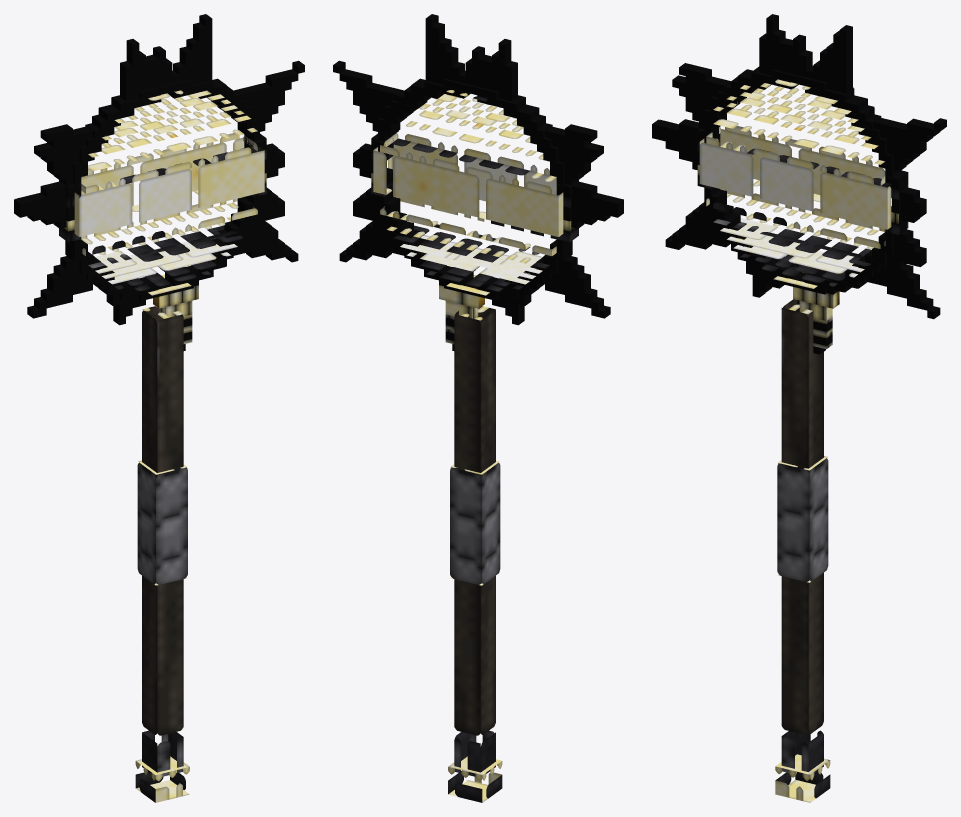
File: totality.obj
The picture shows the model from 3 angles, left to right: view 1: azimuth 30°, elevation 25°; view 2: azimuth 150°, elevation 25°; view 3: azimuth 330°, elevation 25°; orthographic projection.
Visible parts, largest first — view 1: lit, fire; view 2: lit, fire; view 3: lit, fire.
Boxes of the visible parts, box(x1,y1,x2,y2) form: lit: box(74, 90, 264, 802); fire: box(14, 14, 304, 350); lit: box(373, 90, 563, 802); fire: box(333, 14, 623, 350); lit: box(699, 79, 891, 802); fire: box(652, 14, 946, 354).
Size of the model in its own units: 1.34 by 3.44 by 0.1625.
